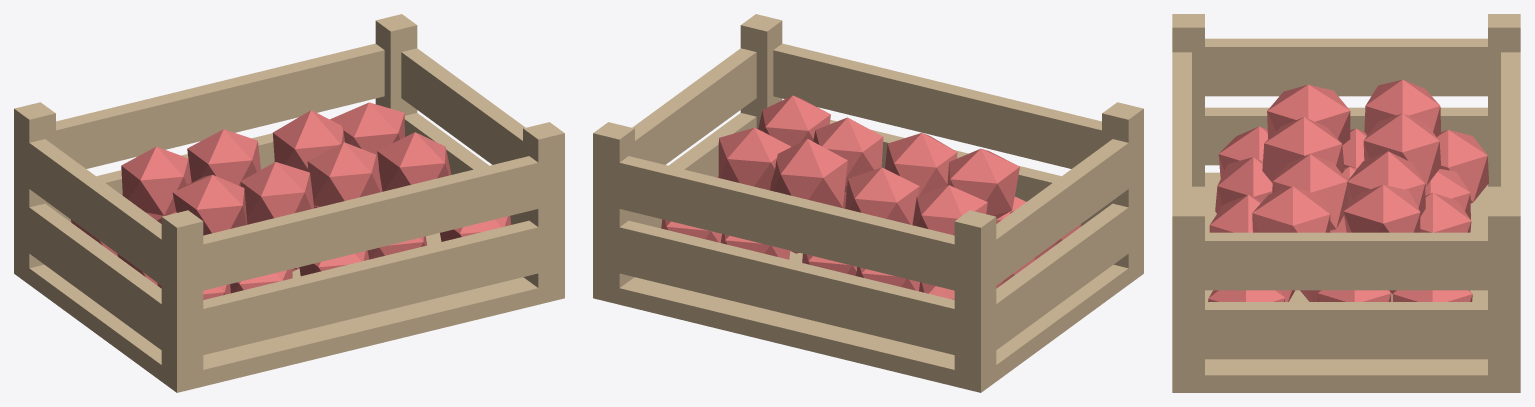
The model's file is load_crate.glb.
The picture shows the model from 3 angles, left to right: view 1: azimuth 30°, elevation 25°; view 2: azimuth 150°, elevation 25°; view 3: azimuth 270°, elevation 25°; orthographic projection. The views are drawn at different scales.
Parts seen in each view (by area): view 1: Carry.Crate#6, Carry.Crate#2, Carry.Crate#8, Carry.Crate, Carry.Crate#3, Carry.Crate#7, Carry.Crate#9, Carry.Crate#12, Carry.Crate#10, Goods.Tomato#20, Carry.Crate#11, Goods.Tomato#17 (+13 smaller); view 2: Carry.Crate#8, Carry.Crate#4, Carry.Crate#6, Carry.Crate, Carry.Crate#3, Carry.Crate#7, Carry.Crate#9, Carry.Crate#11, Goods.Tomato#21, Carry.Crate#13, Goods.Tomato#16, Goods.Tomato#23 (+13 smaller); view 3: Carry.Crate#9, Carry.Crate#5, Carry.Crate#7, Carry.Crate, Carry.Crate#3, Carry.Crate#8, Carry.Crate#6, Carry.Crate#13, Carry.Crate#12, Goods.Tomato#19, Goods.Tomato#23, Goods.Tomato#18 (+19 smaller).
Part boxes in pixels (bbox=[...]): Carry.Crate#6: bbox=[167, 156, 564, 296]; Carry.Crate#2: bbox=[167, 220, 564, 361]; Carry.Crate#8: bbox=[14, 43, 384, 171]; Carry.Crate: bbox=[14, 233, 564, 392]; Carry.Crate#3: bbox=[23, 203, 167, 354]; Carry.Crate#7: bbox=[23, 138, 167, 289]; Carry.Crate#9: bbox=[401, 48, 525, 164]; Carry.Crate#12: bbox=[523, 122, 564, 296]; Carry.Crate#10: bbox=[161, 210, 203, 384]; Goods.Tomato#20: bbox=[307, 142, 382, 207]; Carry.Crate#11: bbox=[14, 102, 55, 274]; Goods.Tomato#17: bbox=[121, 146, 191, 220]; Carry.Crate#8: bbox=[593, 156, 989, 296]; Carry.Crate#4: bbox=[593, 220, 989, 361]; Carry.Crate#6: bbox=[773, 43, 1143, 183]; Carry.Crate: bbox=[593, 251, 1143, 392]; Carry.Crate#3: bbox=[993, 203, 1133, 349]; Carry.Crate#7: bbox=[990, 139, 1133, 285]; Carry.Crate#9: bbox=[632, 48, 756, 164]; Carry.Crate#11: bbox=[954, 210, 996, 384]; Goods.Tomato#21: bbox=[770, 139, 847, 207]; Carry.Crate#13: bbox=[593, 122, 634, 296]; Goods.Tomato#16: bbox=[947, 148, 1019, 218]; Goods.Tomato#23: bbox=[718, 127, 790, 190]; Carry.Crate#9: bbox=[1192, 232, 1500, 290]; Carry.Crate#5: bbox=[1192, 302, 1500, 359]; Carry.Crate#7: bbox=[1205, 38, 1487, 96]; Carry.Crate: bbox=[1172, 172, 1520, 392]; Carry.Crate#3: bbox=[1205, 107, 1487, 165]; Carry.Crate#8: bbox=[1501, 52, 1520, 290]; Carry.Crate#6: bbox=[1172, 52, 1191, 290]; Carry.Crate#13: bbox=[1488, 202, 1520, 383]; Carry.Crate#12: bbox=[1172, 202, 1204, 383]; Goods.Tomato#19: bbox=[1363, 113, 1440, 186]; Goods.Tomato#23: bbox=[1343, 184, 1420, 232]; Goods.Tomato#18: bbox=[1262, 117, 1344, 182].
Bounding box in the file's own units: 0.44 × 0.179 × 0.32.
